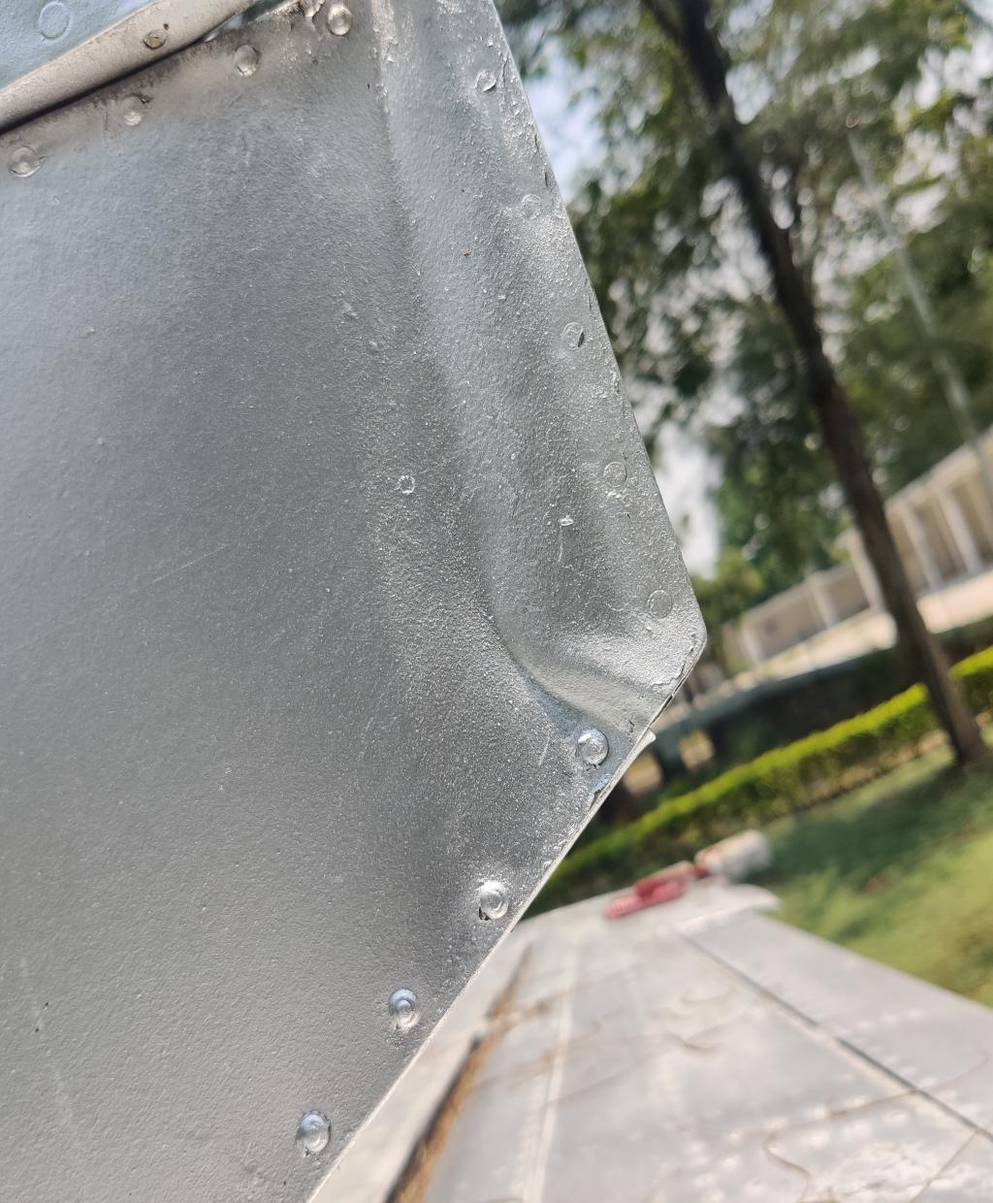dent: (472, 568, 690, 804)
